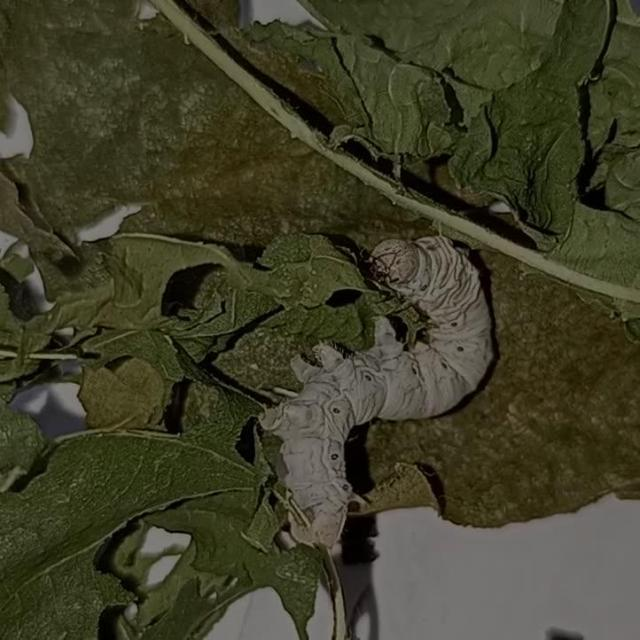Healthy: (252, 231, 536, 566)
